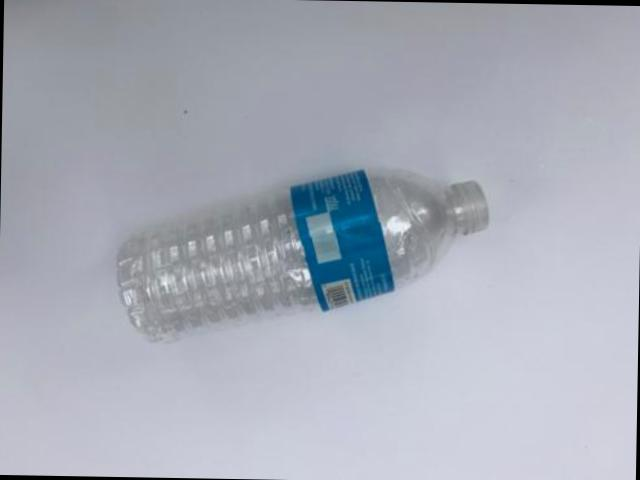plastic: (119, 172, 490, 342)
